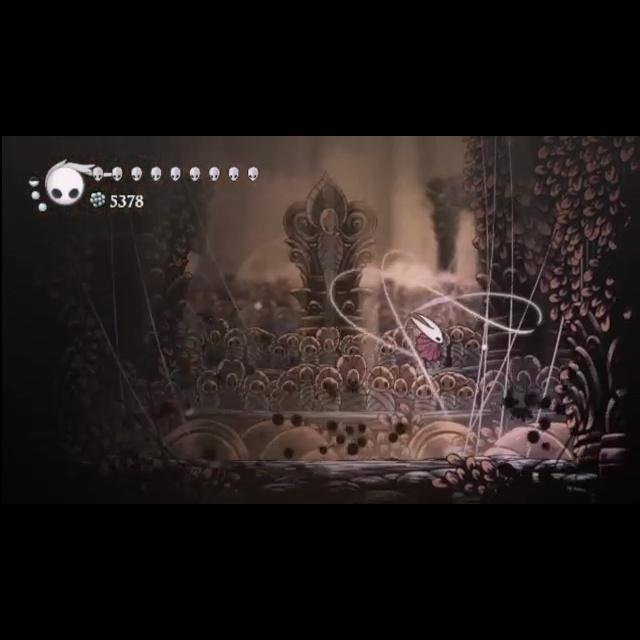EnemyAirAttack: (402, 308, 456, 374)
Player: (502, 377, 540, 425)
